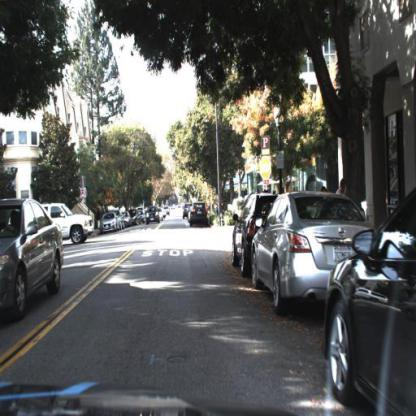car: (325, 186, 416, 416), (247, 188, 329, 323), (1, 198, 65, 323), (227, 193, 263, 280), (32, 203, 95, 243), (144, 203, 162, 229), (101, 214, 121, 235)
